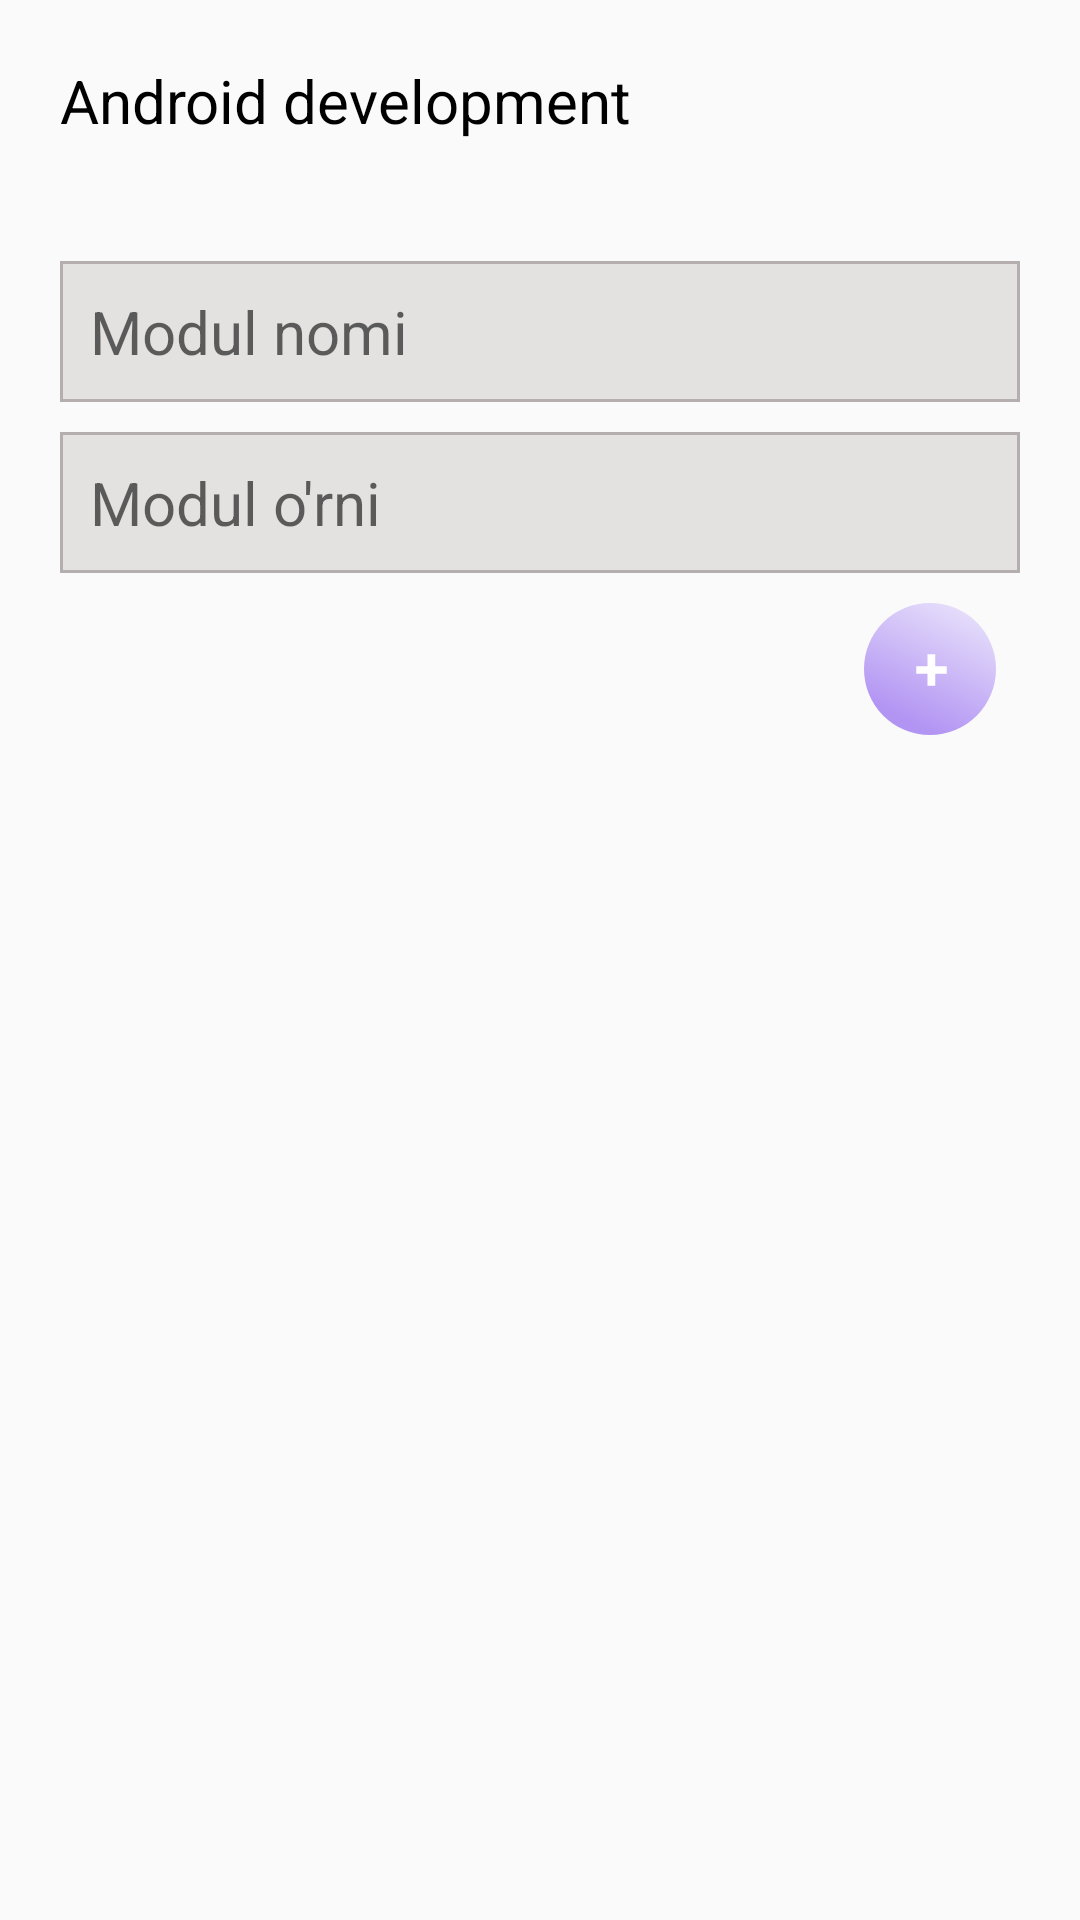

Icons on this 1080px×1920px Android screen, each with the point to tap as (x=x, y=y):
add: (x=930, y=669)
